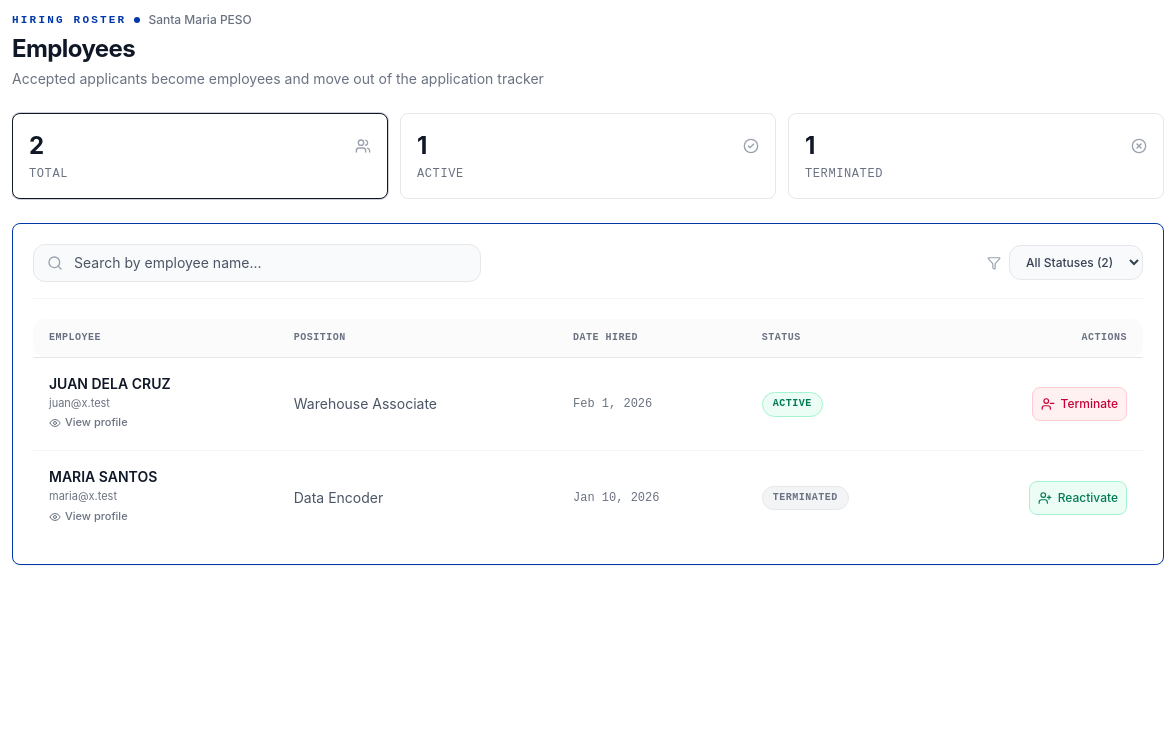
Scenario: Employees roster › filters the roster by employee name from the search box
Expected: the button "juan dela cruz" is shown, [49,374,171,394]
Type "maria" into the field with placeholder "Search by employee name..." at point(257, 262), box [33,244,481,282]
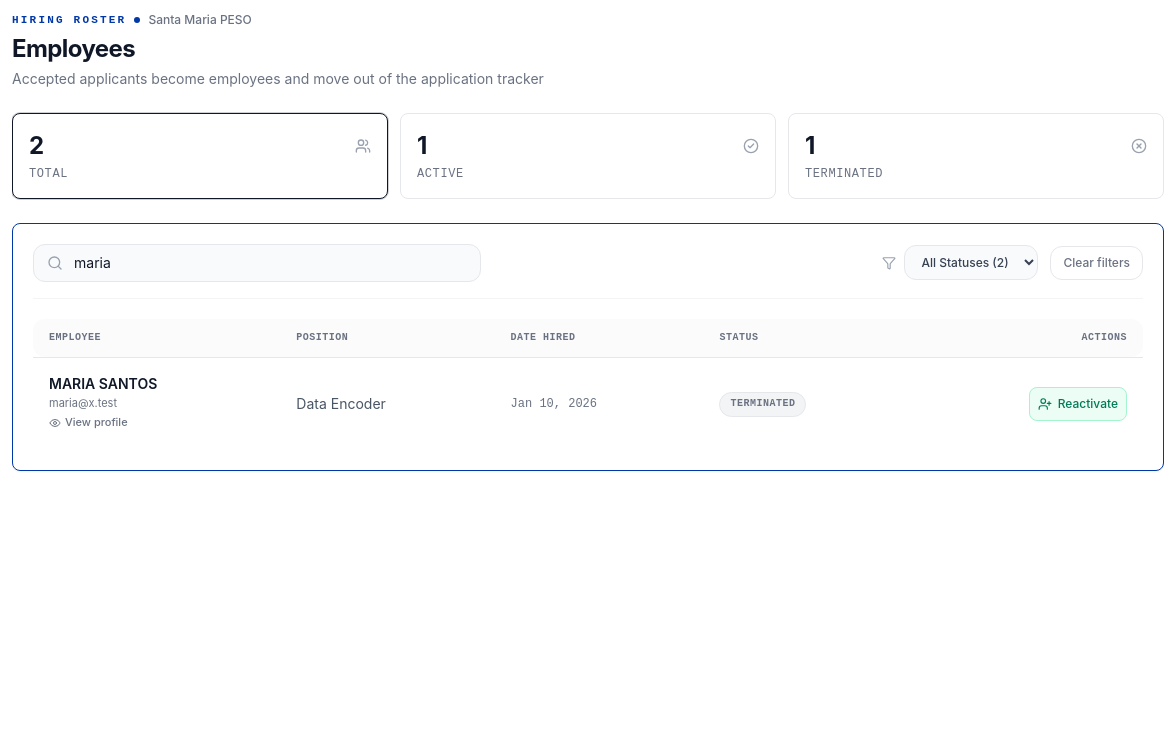
Expected: the button "maria santos" is shown, [49,374,157,394]
Expected: the button "juan dela cruz" is gone
